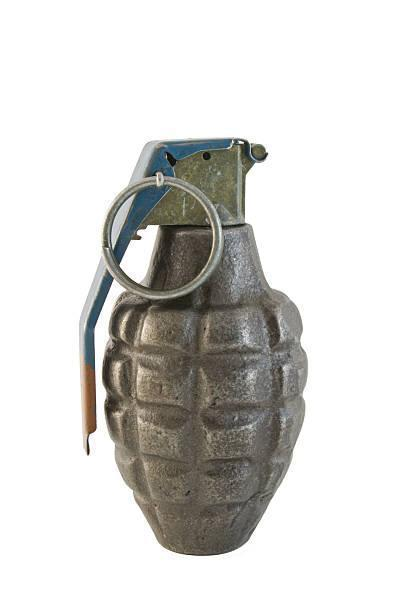Grenade: (76, 135, 307, 556)
